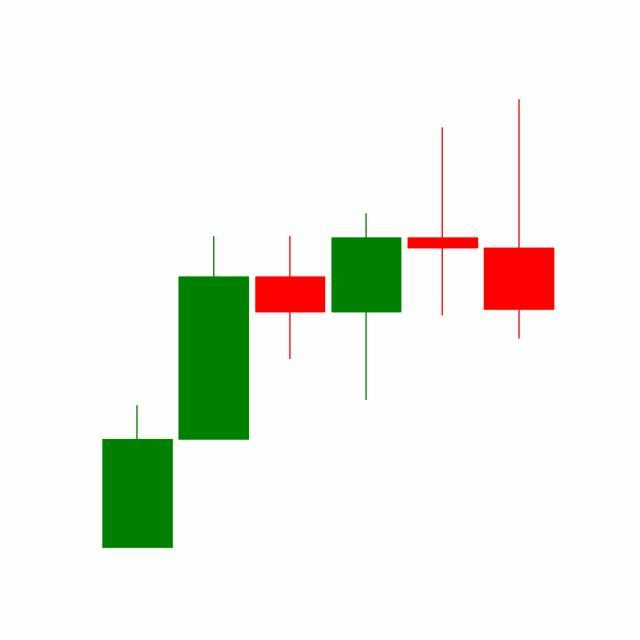Spinning Top: (404, 126, 482, 319)
